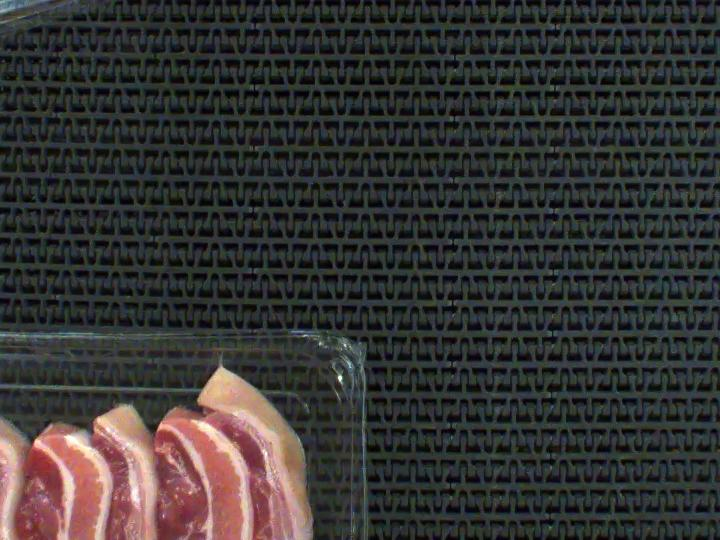packaging-error: (127, 327, 265, 414)
